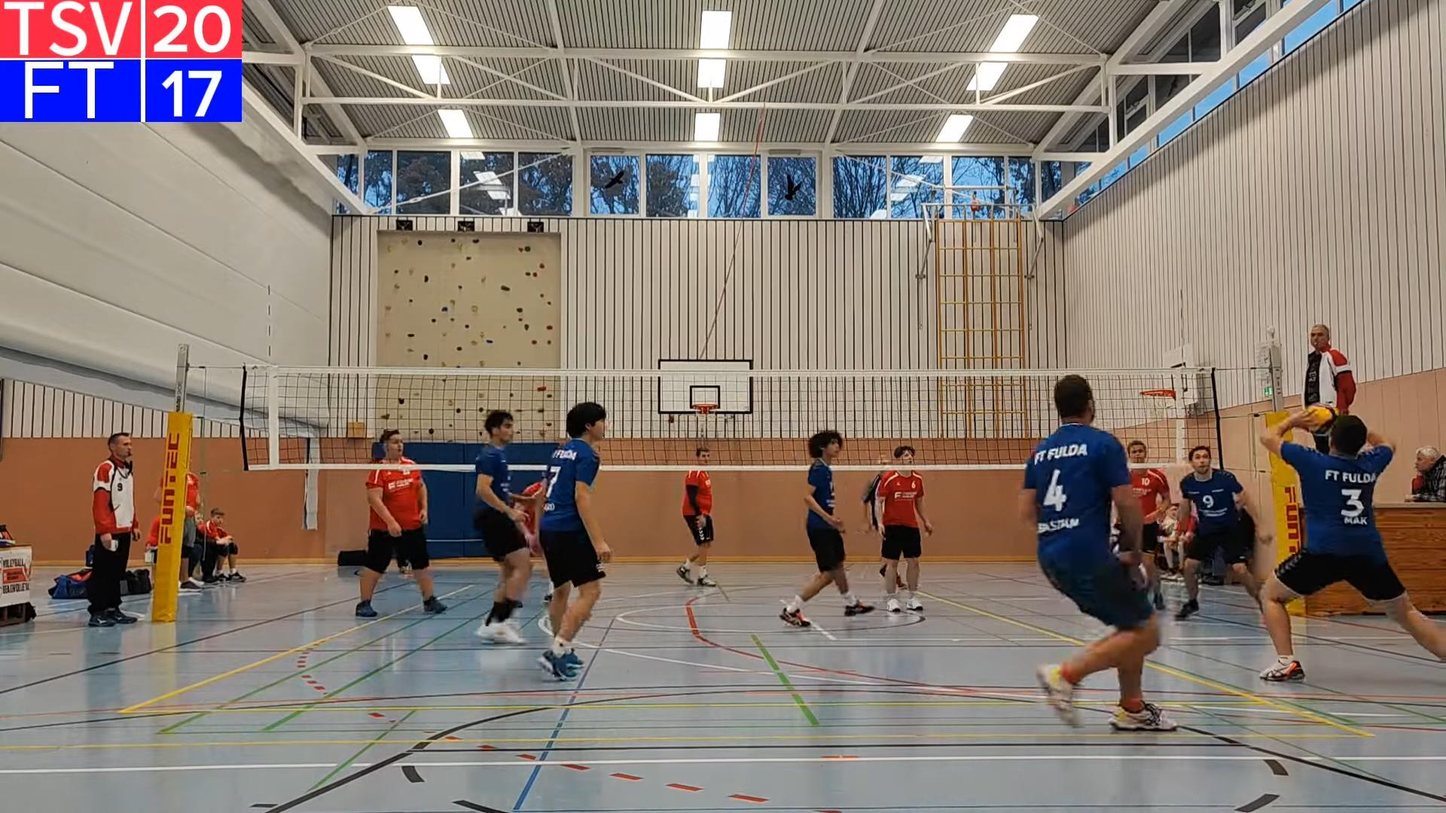ricezione: (1257, 401, 1446, 682)
